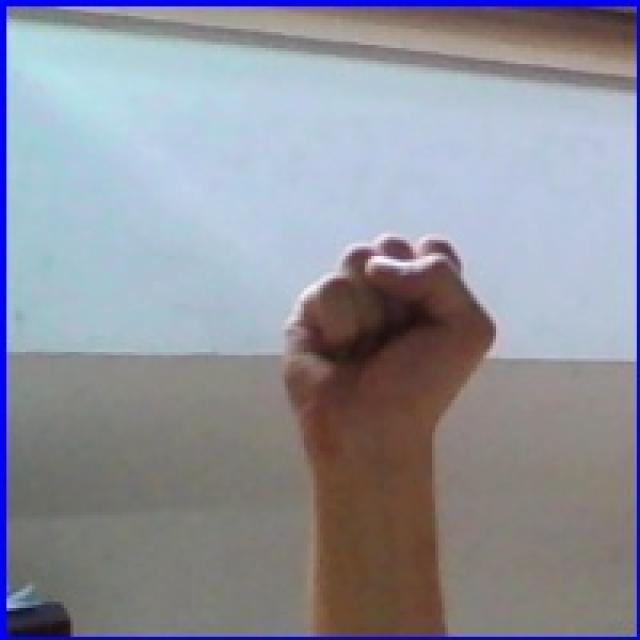Letra-S: (247, 202, 514, 494)
